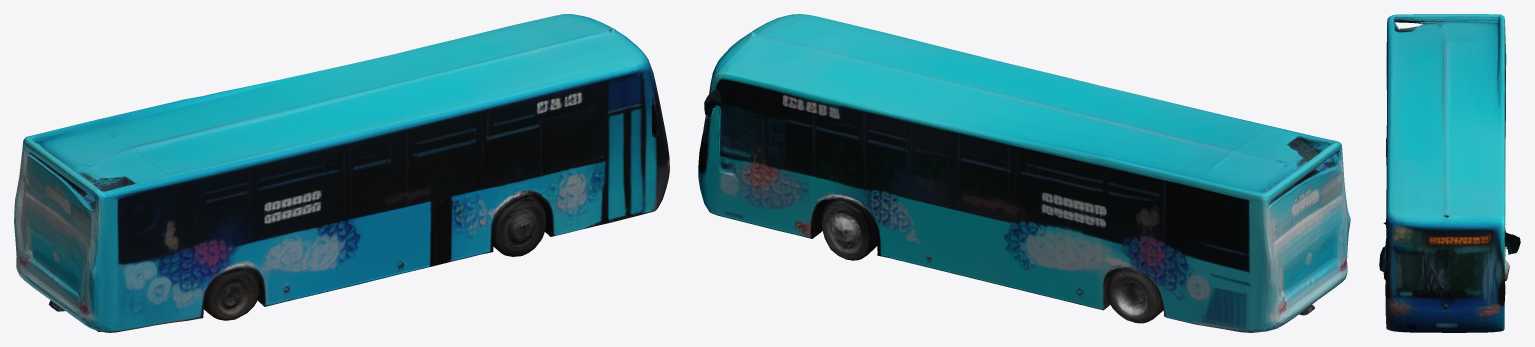
Rendered from bustanger.glb.
3 renders of one model, left to right at view 1: azimuth 30°, elevation 25°; view 2: azimuth 150°, elevation 25°; view 3: azimuth 270°, elevation 25°, orthographic. The views are drawn at different scales.
Visible parts, largest first — view 1: world; view 2: world; view 3: world.
Part boxes in pixels (bbox=[...]): world: bbox=[14, 14, 669, 332]; world: bbox=[698, 14, 1350, 332]; world: bbox=[1379, 14, 1520, 332].
Bounding box in the file's own units: 0.9993 × 0.2722 × 0.2781.
1 material, 1 textured.
